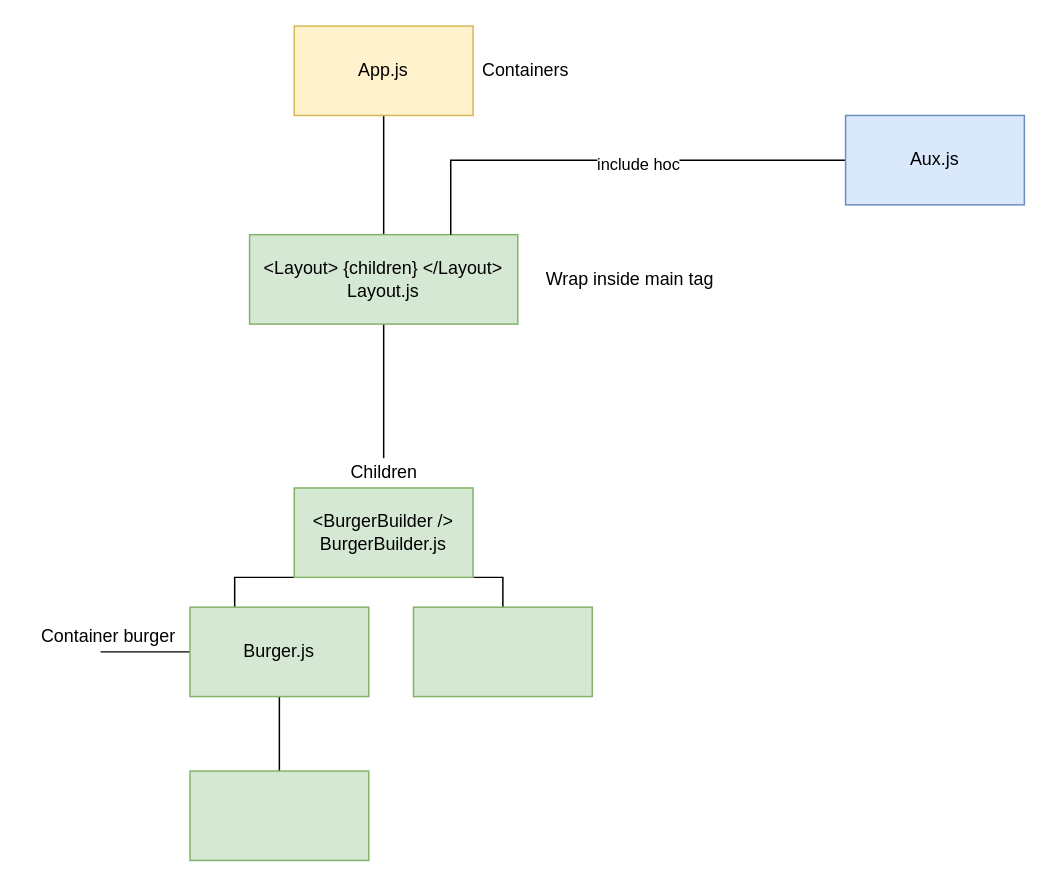
This 1050x887 diagram has some shape labels left out. The centre of each missing label's shape, as x and y in pixels:
"BurgerControls.js" goes at [502,651].
"BurgerIngredient.js" goes at [278,815].
